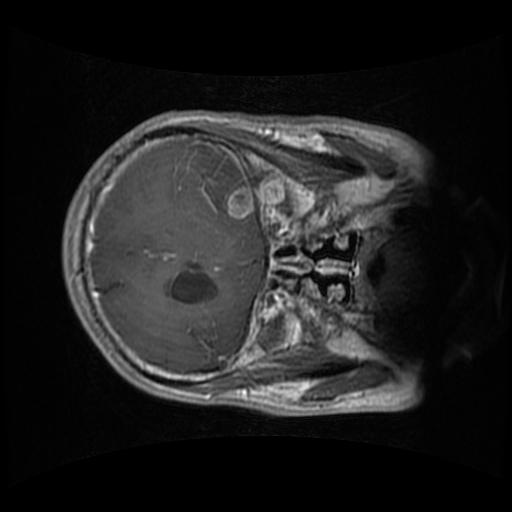glioma: (222, 177, 287, 220)
